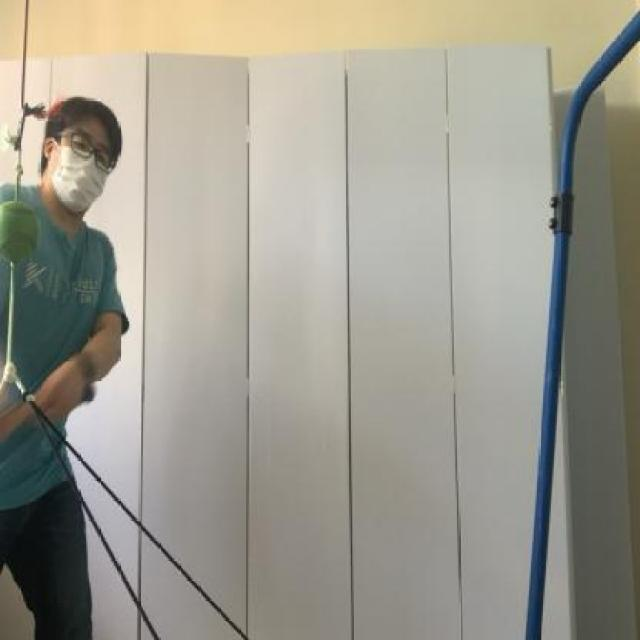baseball: (1, 191, 41, 267)
